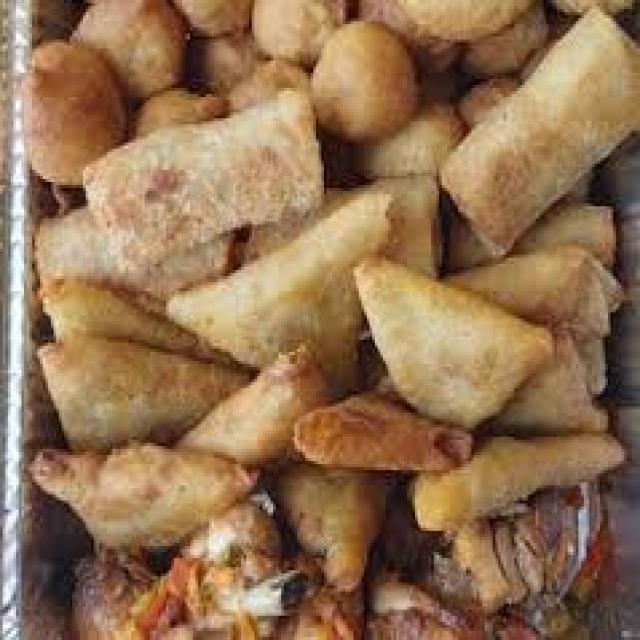Samosa: (29, 191, 622, 525)
Spring Rolls: (32, 109, 316, 279), (460, 9, 634, 237)
